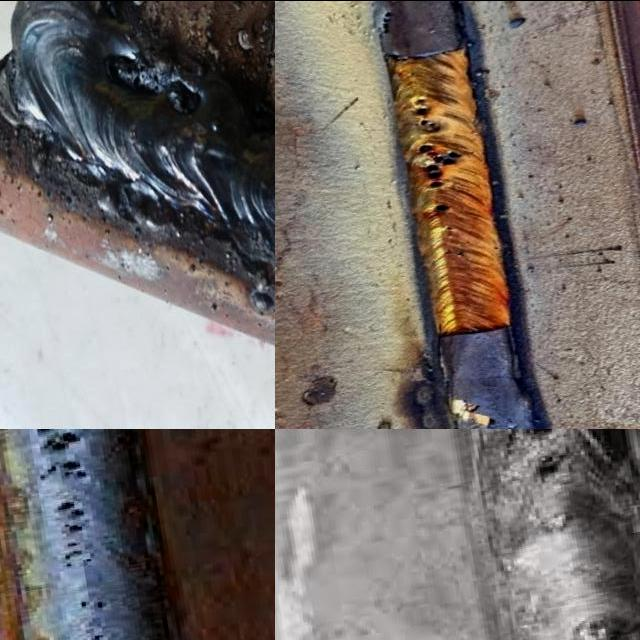defect: (102, 52, 200, 117), (30, 428, 94, 483), (414, 140, 467, 190), (519, 440, 568, 480), (46, 497, 95, 535), (51, 538, 105, 570), (412, 94, 442, 131), (76, 597, 110, 613), (380, 9, 393, 34), (88, 628, 112, 640), (432, 202, 456, 213), (442, 247, 465, 256), (440, 223, 455, 230)
